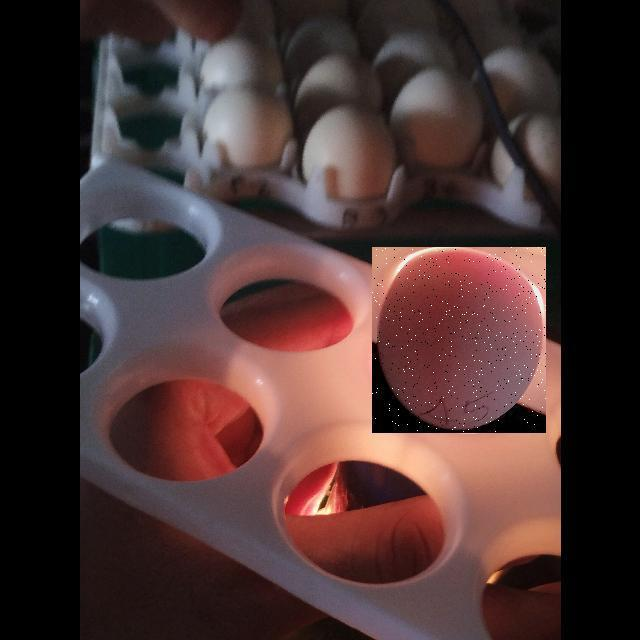A - Good: (370, 244, 547, 430)
